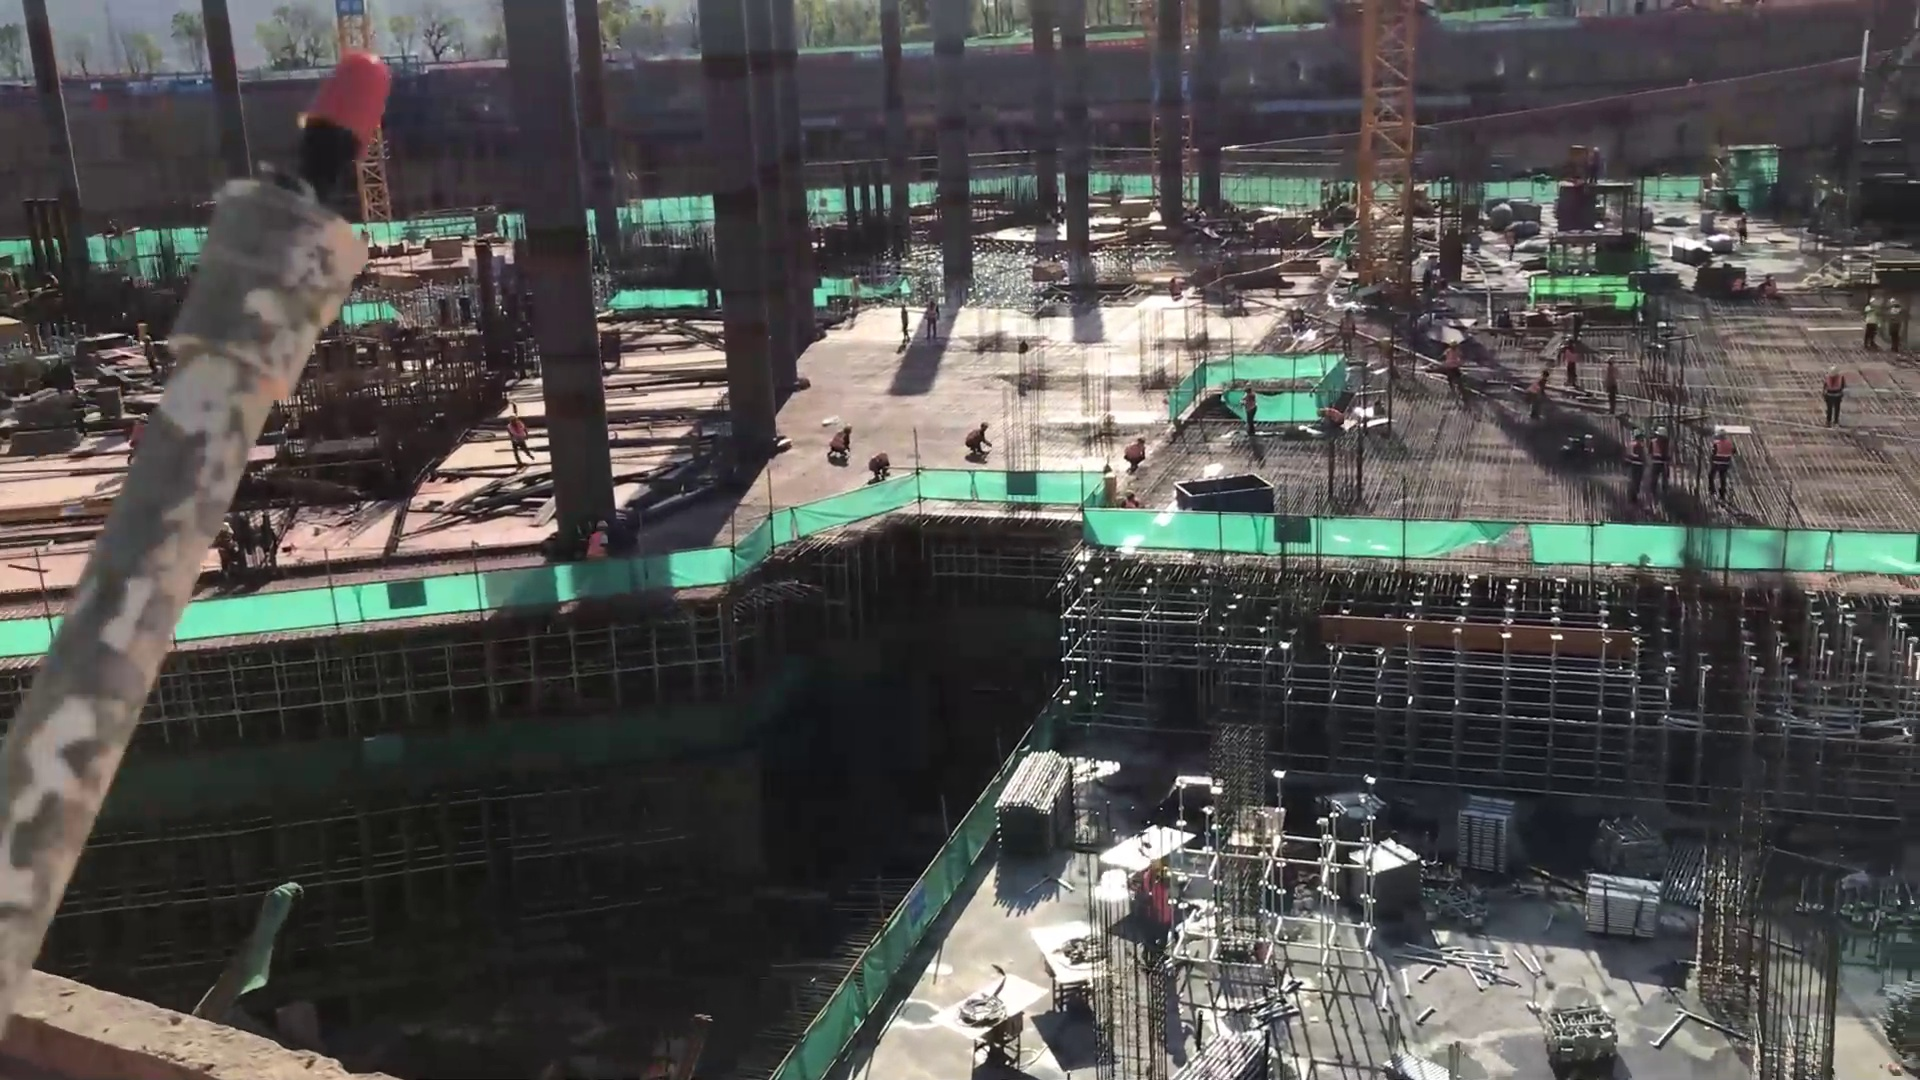person: (1154, 866, 1175, 963), (1523, 364, 1551, 431), (1708, 427, 1732, 501), (1141, 858, 1162, 940), (505, 406, 532, 468), (1651, 422, 1674, 491), (1604, 350, 1627, 414), (1823, 362, 1843, 430), (1442, 339, 1466, 395), (1624, 423, 1642, 500), (965, 422, 998, 462), (1242, 380, 1265, 438), (1858, 292, 1877, 354), (1336, 304, 1356, 360), (1121, 434, 1148, 472), (1889, 297, 1905, 358), (832, 420, 855, 465), (1319, 397, 1344, 438), (866, 449, 889, 484), (896, 300, 913, 347), (924, 297, 938, 339), (1588, 144, 1601, 183)
